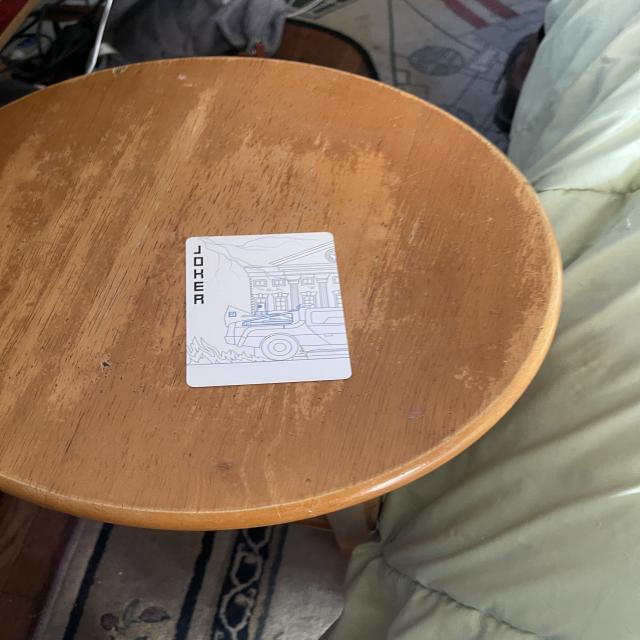Joker: (176, 218, 350, 396)
